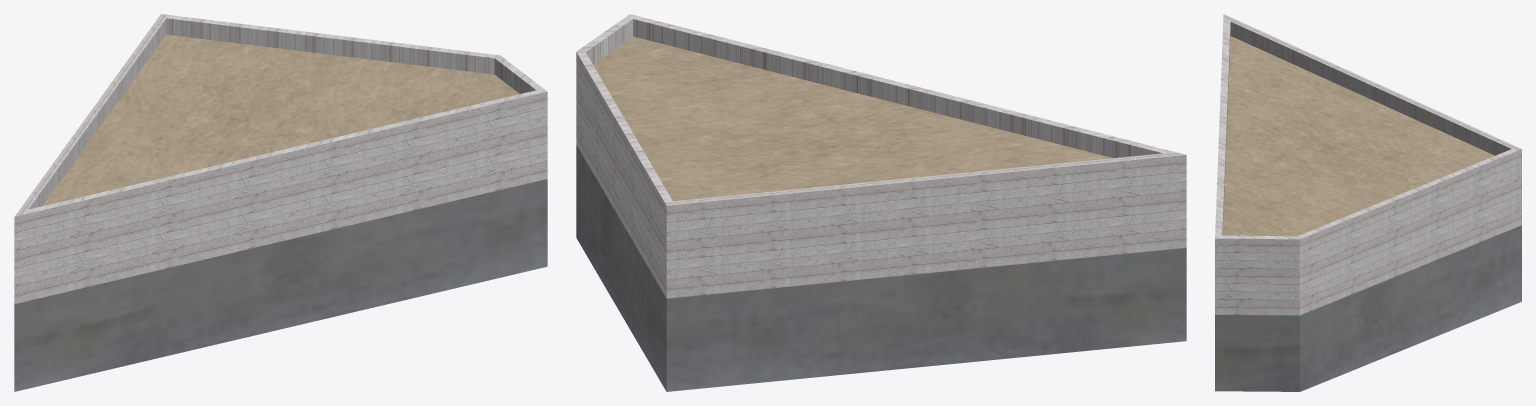
3 renders of one model, left to right at view 1: azimuth 30°, elevation 25°; view 2: azimuth 150°, elevation 25°; view 3: azimuth 270°, elevation 25°, orthographic. The views are drawn at different scales.
Visible parts, largest first — view 1: Cube.025; view 2: Cube.025; view 3: Cube.025.
Part boxes in pixels (box(x1,y1,x2,y2)): Cube.025: box(14, 14, 547, 391); Cube.025: box(576, 14, 1186, 391); Cube.025: box(1215, 14, 1521, 391).
Size of the model in its own units: 14.14 by 4.47 by 8.14.
Materials: 3 (3 with a texture image).
